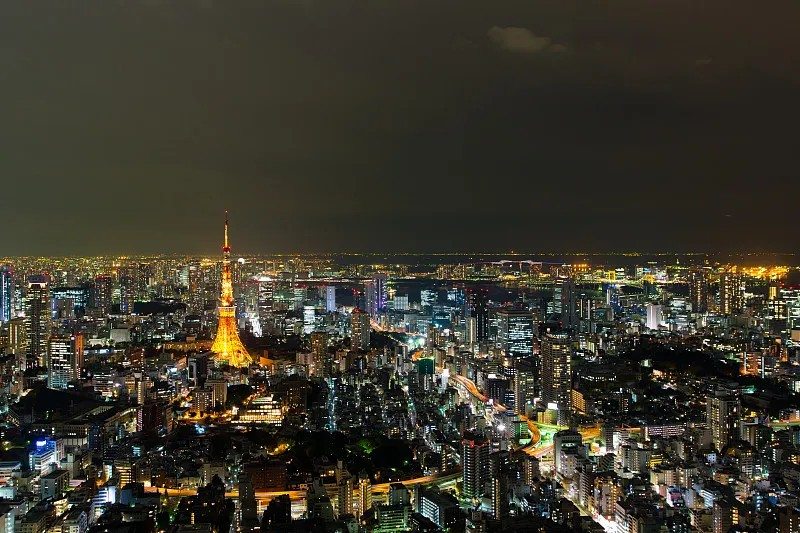Tokyo: (206, 210, 254, 368)
